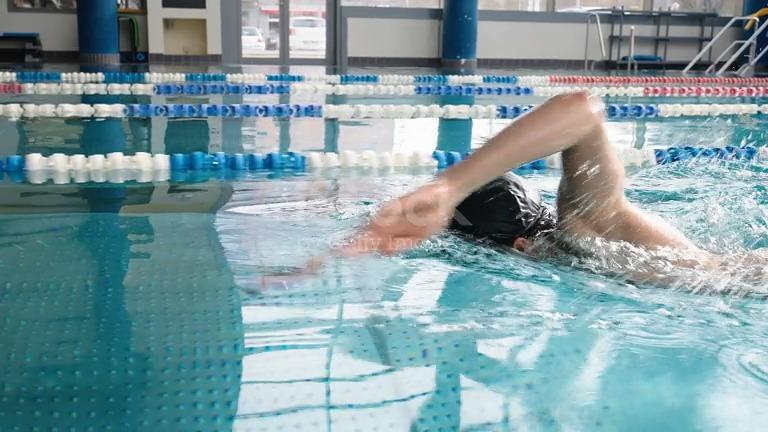Swimming: (241, 87, 765, 305)
